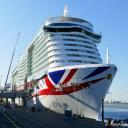cruises: (9, 5, 120, 125)
